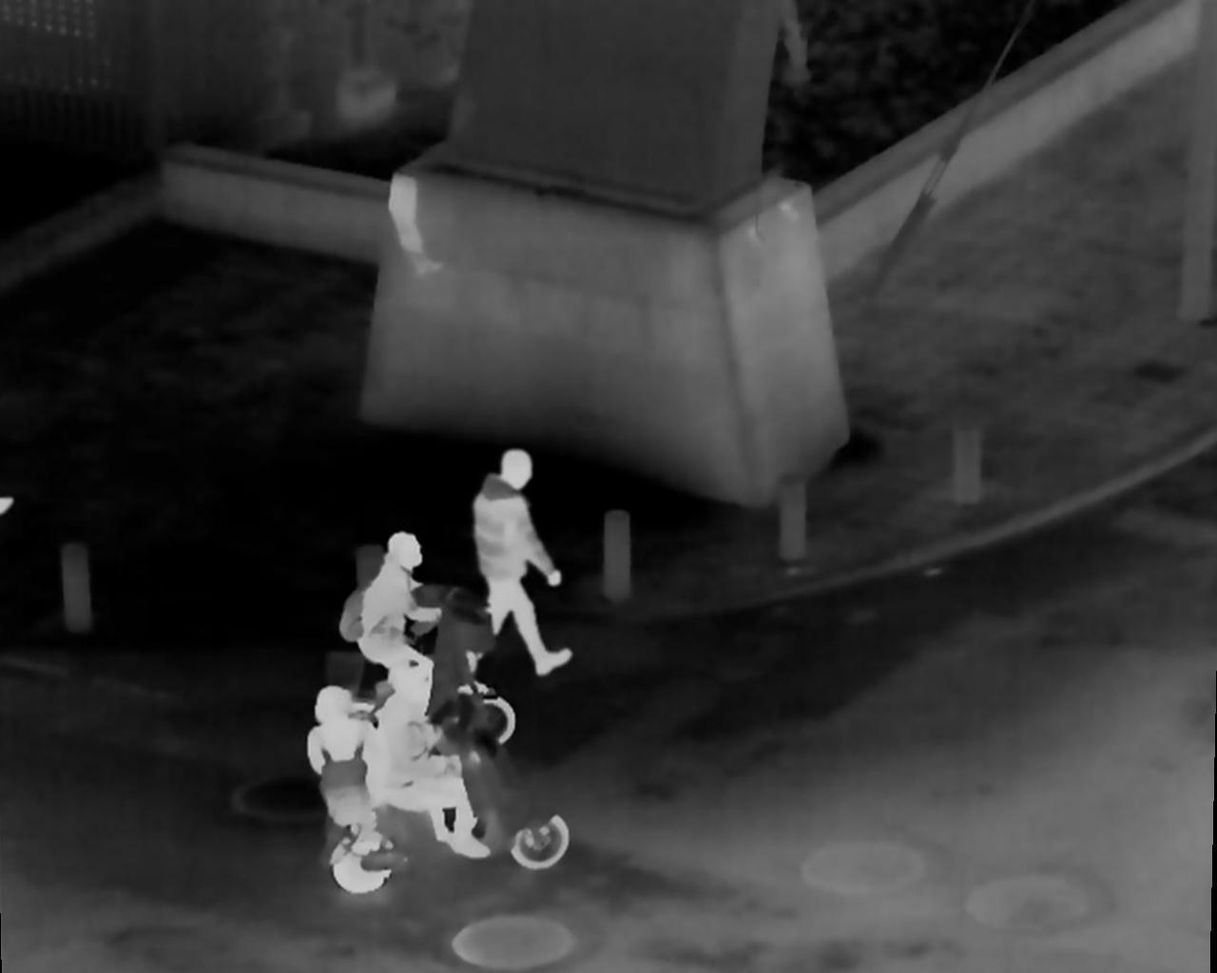person: (323, 658, 476, 860), (475, 452, 594, 680), (345, 528, 436, 695), (285, 684, 381, 831)
